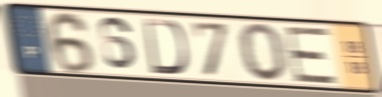6: (43, 9, 98, 76), (98, 15, 139, 74)
7: (190, 19, 233, 79)
D: (141, 17, 190, 77)
E: (282, 25, 339, 86)
O: (237, 21, 290, 84)
